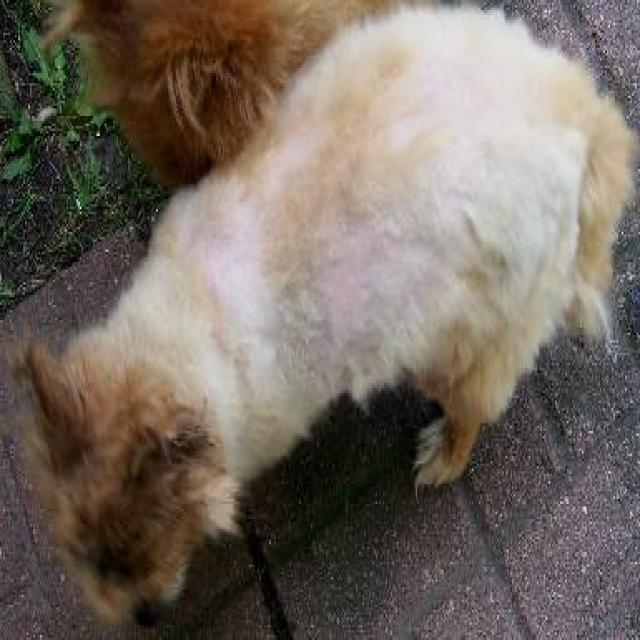Dog: (14, 333, 239, 632)
